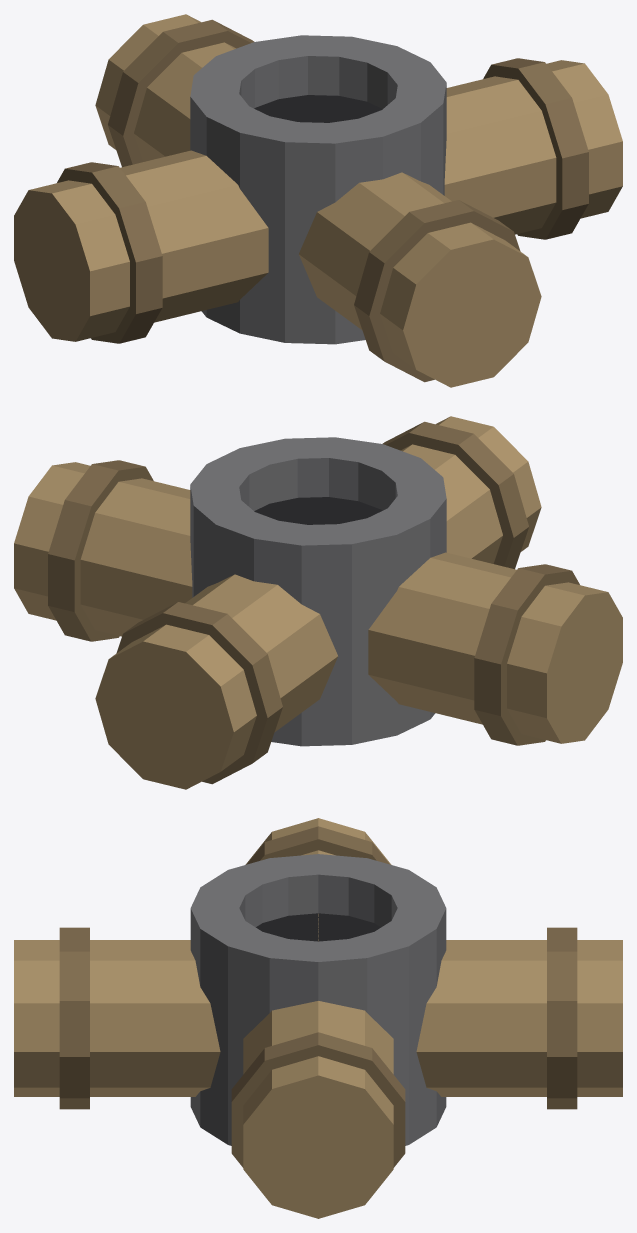
Rendered from vge_oxygen_valve.obj.
The picture shows the model from 3 angles, top to bottom: view 1: azimuth 30°, elevation 25°; view 2: azimuth 150°, elevation 25°; view 3: azimuth 270°, elevation 25°; orthographic projection.
Visible parts, largest first — view 1: vge_oxygen_valve_0, vge_oxygen_valve_6, vge_oxygen_valve_1, vge_oxygen_valve_2, vge_oxygen_valve_4, vge_oxygen_valve_3, vge_oxygen_valve_5, vge_oxygen_valve_7; view 2: vge_oxygen_valve_0, vge_oxygen_valve_6, vge_oxygen_valve_1, vge_oxygen_valve_2, vge_oxygen_valve_4, vge_oxygen_valve_5, vge_oxygen_valve_3, vge_oxygen_valve_7; view 3: vge_oxygen_valve_1, vge_oxygen_valve_6, vge_oxygen_valve_0, vge_oxygen_valve_4, vge_oxygen_valve_3, vge_oxygen_valve_5, vge_oxygen_valve_2, vge_oxygen_valve_7.
Part boxes in pixels (<box>): vge_oxygen_valve_0: <box>14,60,622,341</box>; vge_oxygen_valve_6: <box>190,35,446,344</box>; vge_oxygen_valve_1: <box>95,14,541,387</box>; vge_oxygen_valve_2: <box>57,162,162,343</box>; vge_oxygen_valve_4: <box>483,58,588,239</box>; vge_oxygen_valve_3: <box>354,200,520,382</box>; vge_oxygen_valve_5: <box>108,19,254,167</box>; vge_oxygen_valve_7: <box>254,95,382,122</box>; vge_oxygen_valve_0: <box>14,462,622,743</box>; vge_oxygen_valve_6: <box>190,437,446,746</box>; vge_oxygen_valve_1: <box>95,416,541,789</box>; vge_oxygen_valve_2: <box>474,564,579,745</box>; vge_oxygen_valve_4: <box>48,460,153,641</box>; vge_oxygen_valve_5: <box>116,602,282,784</box>; vge_oxygen_valve_3: <box>382,421,528,569</box>; vge_oxygen_valve_7: <box>254,497,382,524</box>; vge_oxygen_valve_1: <box>14,940,622,1096</box>; vge_oxygen_valve_6: <box>190,854,446,1145</box>; vge_oxygen_valve_0: <box>243,818,393,1218</box>; vge_oxygen_valve_4: <box>231,1032,405,1167</box>; vge_oxygen_valve_3: <box>59,927,89,1109</box>; vge_oxygen_valve_5: <box>547,927,577,1109</box>; vge_oxygen_valve_2: <box>247,826,389,864</box>; vge_oxygen_valve_7: <box>256,913,380,941</box>.
Size of the model in its own units: 1 by 0.36 by 1.
